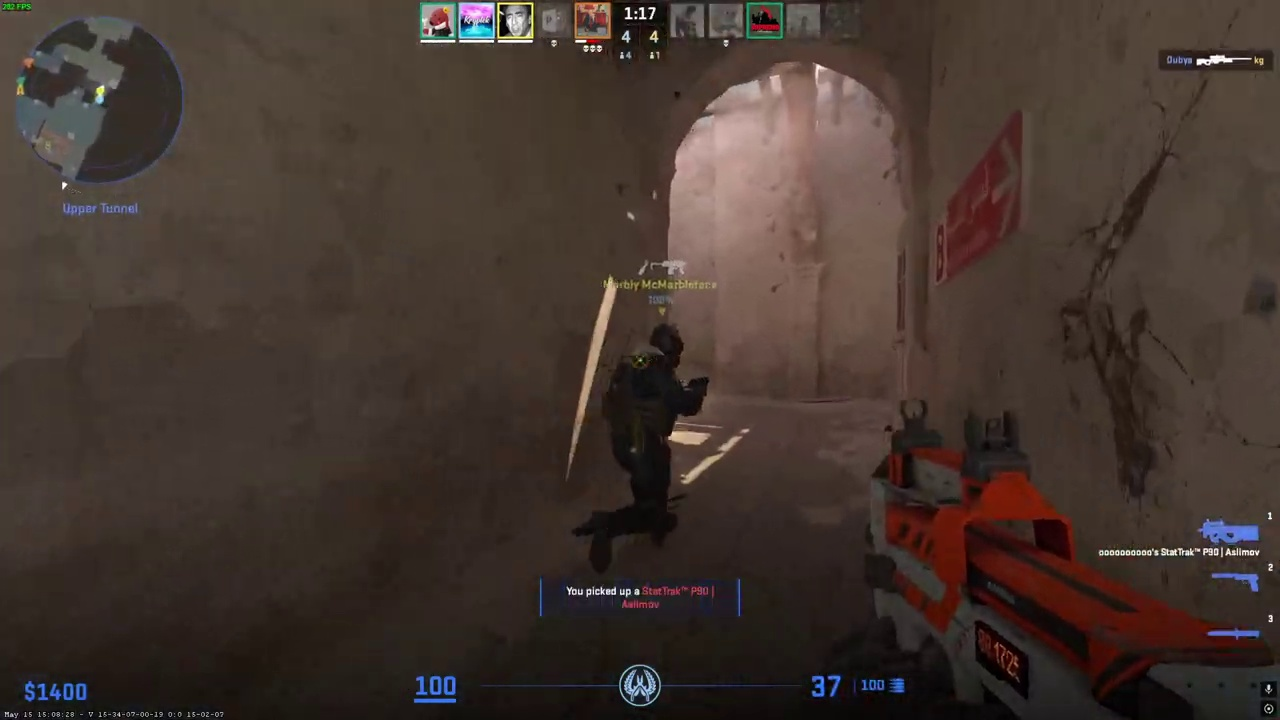CT: (589, 322, 693, 575)
